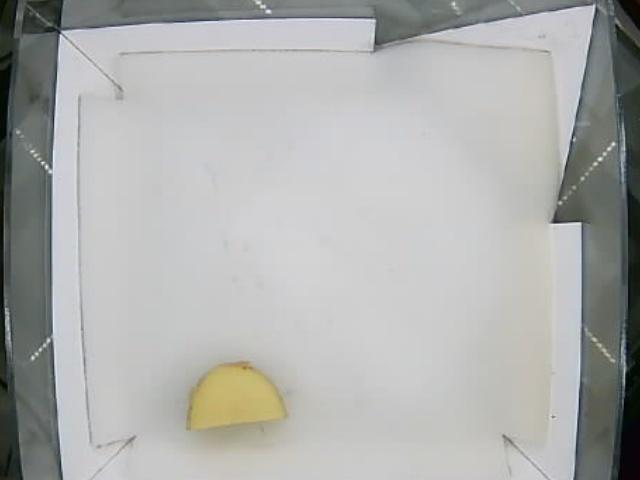Potato: (185, 360, 285, 435)
